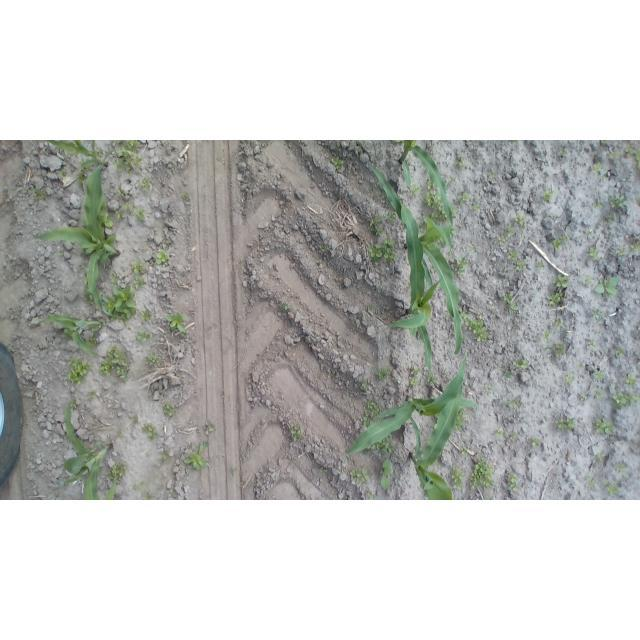Maize: (367, 158, 464, 355), (340, 351, 478, 476), (32, 149, 122, 319), (388, 202, 442, 391), (408, 386, 463, 500), (62, 394, 114, 500), (397, 140, 454, 228), (37, 314, 103, 358), (47, 140, 109, 168), (105, 466, 116, 500)
Weeds: (102, 285, 136, 321), (459, 306, 489, 342), (99, 345, 127, 383), (470, 454, 497, 490), (181, 440, 209, 469), (367, 237, 396, 264), (368, 210, 396, 236), (68, 355, 91, 385), (114, 151, 142, 173), (594, 276, 619, 300), (424, 178, 441, 210), (165, 311, 188, 334), (611, 391, 638, 409), (591, 417, 615, 436), (363, 399, 380, 425), (380, 458, 393, 492), (371, 437, 395, 455), (450, 466, 466, 492), (107, 462, 126, 481), (101, 201, 114, 228), (552, 233, 571, 251), (290, 422, 307, 442), (556, 416, 577, 432), (350, 467, 371, 483), (142, 422, 159, 441), (506, 471, 520, 494), (454, 257, 468, 280), (505, 292, 520, 312), (604, 479, 620, 497), (611, 191, 626, 210), (546, 343, 564, 358), (545, 293, 563, 308), (116, 140, 141, 150), (513, 213, 526, 232), (376, 367, 392, 382), (431, 207, 447, 222), (552, 274, 569, 288), (504, 396, 521, 410), (162, 402, 177, 417), (136, 330, 153, 343), (543, 188, 555, 205), (457, 408, 466, 430), (132, 275, 146, 289), (330, 156, 344, 170), (625, 373, 638, 388), (586, 476, 599, 491), (204, 418, 216, 434), (156, 249, 168, 265), (30, 187, 46, 199), (512, 359, 529, 370), (593, 387, 607, 400), (589, 308, 602, 322), (500, 364, 513, 378), (410, 376, 423, 390), (135, 207, 147, 222), (586, 247, 598, 262), (453, 156, 467, 168), (132, 260, 144, 273), (592, 368, 605, 380), (614, 460, 627, 472), (528, 437, 541, 449), (616, 246, 627, 260), (75, 169, 85, 184), (565, 372, 575, 387), (84, 289, 93, 305), (613, 345, 625, 357), (141, 178, 152, 191), (553, 318, 564, 331), (411, 183, 422, 196), (624, 143, 634, 157), (505, 223, 515, 237), (515, 260, 526, 272), (141, 309, 152, 321), (591, 162, 602, 174), (460, 192, 471, 203), (161, 449, 171, 461), (147, 354, 157, 366), (86, 337, 98, 347), (62, 328, 74, 338), (111, 271, 120, 284), (140, 492, 154, 500), (542, 328, 550, 342), (630, 241, 640, 252), (610, 151, 621, 161), (360, 380, 370, 391), (508, 249, 517, 261), (635, 149, 640, 170), (367, 491, 378, 500), (132, 481, 144, 489), (496, 428, 504, 440), (357, 141, 364, 154), (114, 210, 124, 219), (484, 386, 494, 395), (429, 375, 438, 385), (587, 339, 595, 350), (582, 276, 593, 284), (471, 203, 482, 211), (87, 391, 96, 400), (536, 260, 545, 269), (498, 235, 506, 245), (438, 237, 446, 247), (133, 414, 140, 425), (283, 302, 291, 311), (168, 485, 176, 494), (72, 396, 78, 408), (559, 150, 568, 158), (597, 453, 605, 462), (411, 367, 422, 373), (122, 203, 130, 211), (578, 393, 586, 401), (594, 202, 602, 210), (118, 188, 125, 197), (96, 442, 105, 449), (452, 205, 459, 214), (461, 447, 468, 456), (511, 432, 518, 441), (420, 223, 427, 232), (230, 466, 237, 474), (98, 147, 105, 155), (578, 363, 586, 370), (449, 177, 457, 184), (328, 370, 335, 378), (487, 172, 496, 178), (601, 173, 608, 180), (606, 216, 613, 223), (470, 248, 477, 255), (84, 278, 89, 287), (322, 247, 328, 254), (317, 259, 324, 265), (79, 265, 85, 272), (587, 230, 593, 237), (505, 153, 511, 160), (320, 467, 326, 474), (367, 305, 373, 312), (371, 183, 377, 190), (59, 248, 64, 256), (451, 229, 456, 237), (183, 193, 189, 199), (59, 168, 65, 174), (545, 453, 551, 459), (601, 140, 608, 145), (378, 286, 383, 293), (107, 440, 113, 445), (181, 334, 187, 339), (157, 361, 163, 366), (596, 330, 602, 335), (34, 391, 38, 398), (118, 431, 122, 436), (147, 452, 150, 456)
